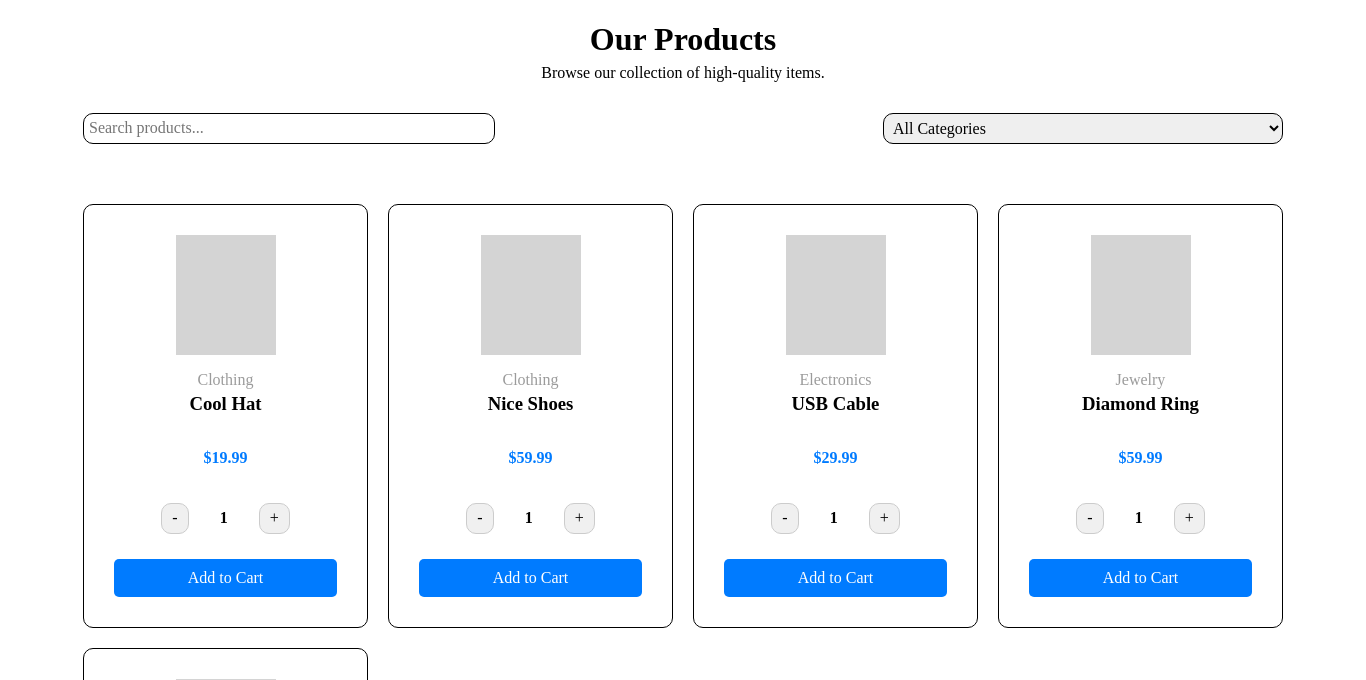
handleCategoryChange › filters items based on category dropdown
Simulate user changing category to 'Electronics'
Select "Electronics" in the dropdown named "search category" at (1083, 128), box [883, 113, 1283, 144]
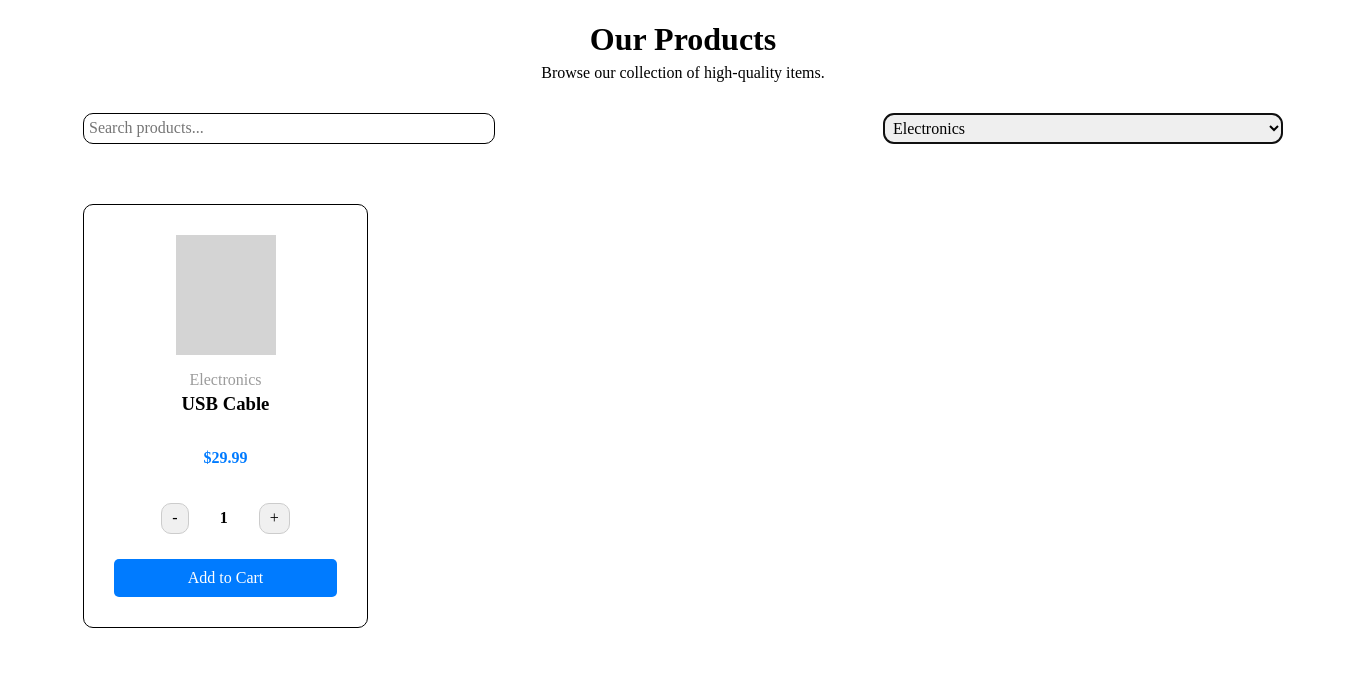
Check: the heading "Cool Hat" is gone
Check: the heading "Nice Shoes" is gone
Check: the heading "Diamond Ring" is gone
